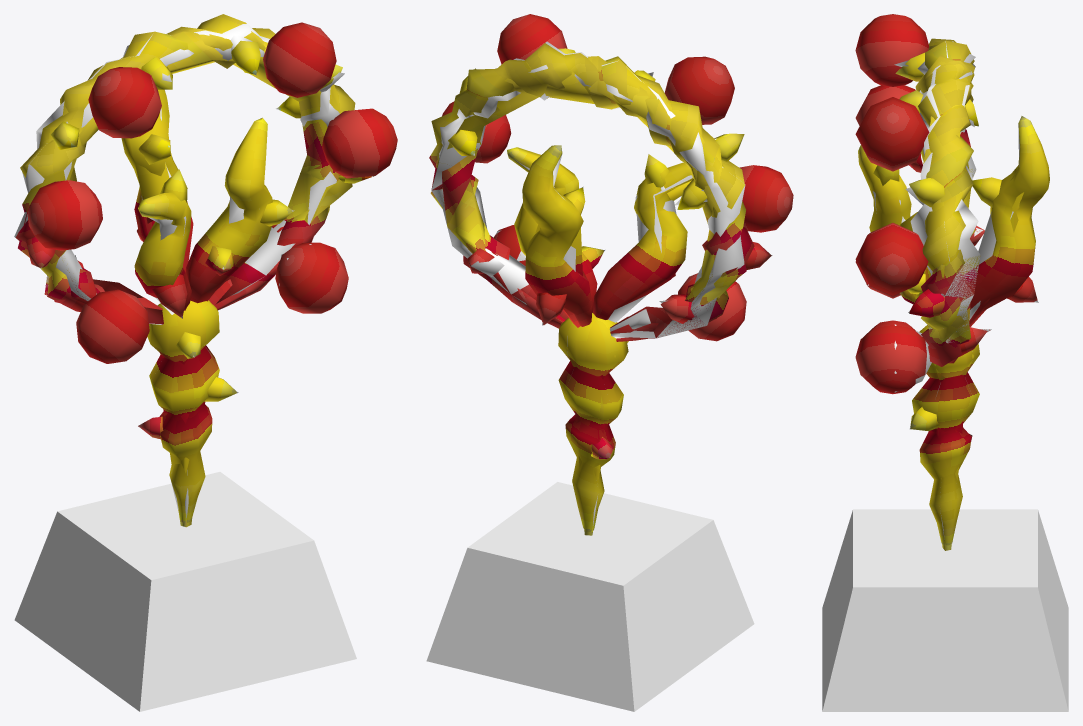
Rendered from objects_un_t04artobj01_red.gltf.
3 renders of one model, left to right at view 1: azimuth 30°, elevation 25°; view 2: azimuth 150°, elevation 25°; view 3: azimuth 270°, elevation 25°, orthographic. The views are drawn at different scales.
Visible parts, largest first — view 1: um_objects_un_t04artobj01_red_model_lod0Shape:objects_un_t04 (×3), um_objects_un_t04artobj01_red_model_lod2Shape:objects_un_t04; view 2: um_objects_un_t04artobj01_red_model_lod0Shape:objects_un_t04 (×3), um_objects_un_t04artobj01_red_model_lod2Shape:objects_un_t04; view 3: um_objects_un_t04artobj01_red_model_lod0Shape:objects_un_t04 (×3), um_objects_un_t04artobj01_red_model_lod2Shape:objects_un_t04, um_objects_un_t04artobj01_red_model_lod1Shape:objects_un_t04.
Boxes of the visible parts, x1=… form: um_objects_un_t04artobj01_red_model_lod0Shape:objects_un_t04 (×3): x1=14, y1=14, x2=397, y2=711; um_objects_un_t04artobj01_red_model_lod2Shape:objects_un_t04: x1=18, y1=31, x2=327, y2=527; um_objects_un_t04artobj01_red_model_lod0Shape:objects_un_t04 (×3): x1=426, y1=14, x2=793, y2=711; um_objects_un_t04artobj01_red_model_lod2Shape:objects_un_t04: x1=442, y1=56, x2=746, y2=535; um_objects_un_t04artobj01_red_model_lod0Shape:objects_un_t04 (×3): x1=822, y1=14, x2=1068, y2=711; um_objects_un_t04artobj01_red_model_lod2Shape:objects_un_t04: x1=915, y1=55, x2=1023, y2=550; um_objects_un_t04artobj01_red_model_lod1Shape:objects_un_t04: x1=908, y1=169, x2=990, y2=344.
Bounding box in the file's own units: 1.11 × 1.81 × 0.6667.
3 materials, 1 textured.
